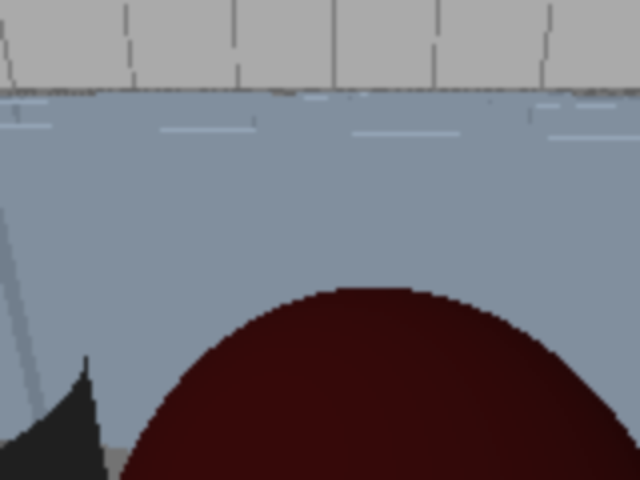puck: (387, 300, 424, 338)
